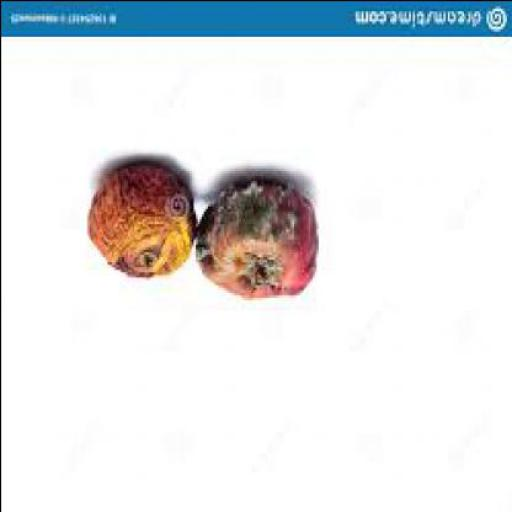biodegradable: (194, 177, 320, 299), (88, 159, 199, 279)
